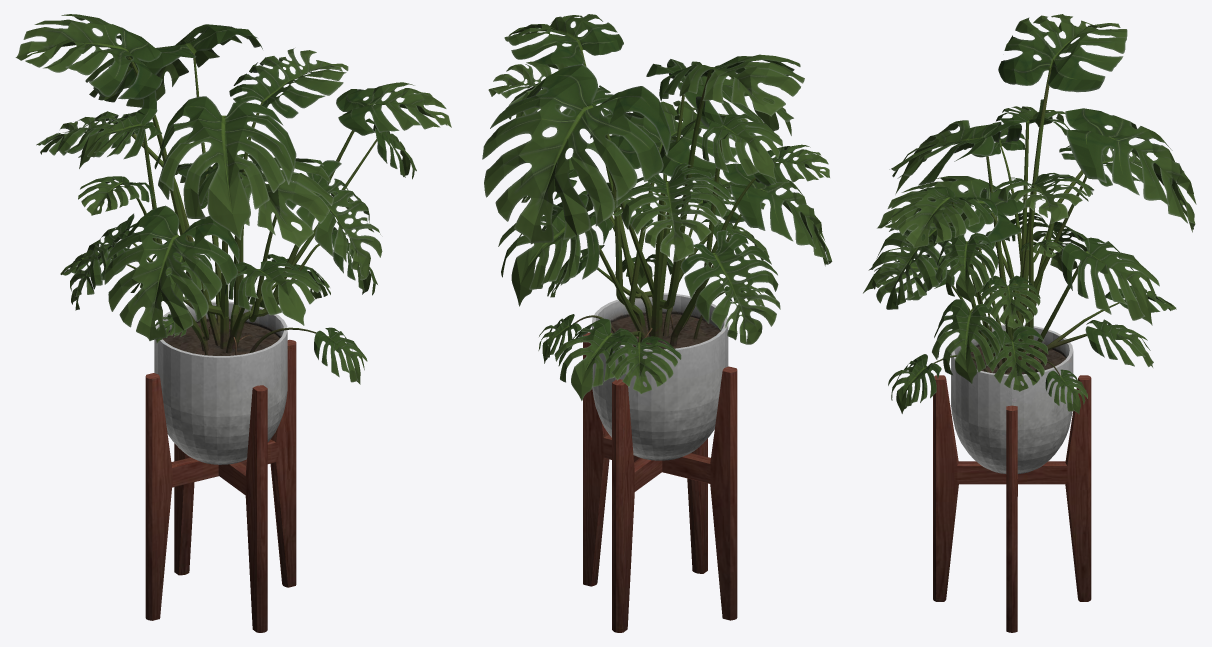
Rendered from f_plant.glb.
3 renders of one model, left to right at view 1: azimuth 30°, elevation 25°; view 2: azimuth 150°, elevation 25°; view 3: azimuth 270°, elevation 25°, orthographic. The views are drawn at different scales.
Size of the model in its own units: 0.8695 by 1.36 by 0.7911.
Materials: 3 (3 with a texture image).
